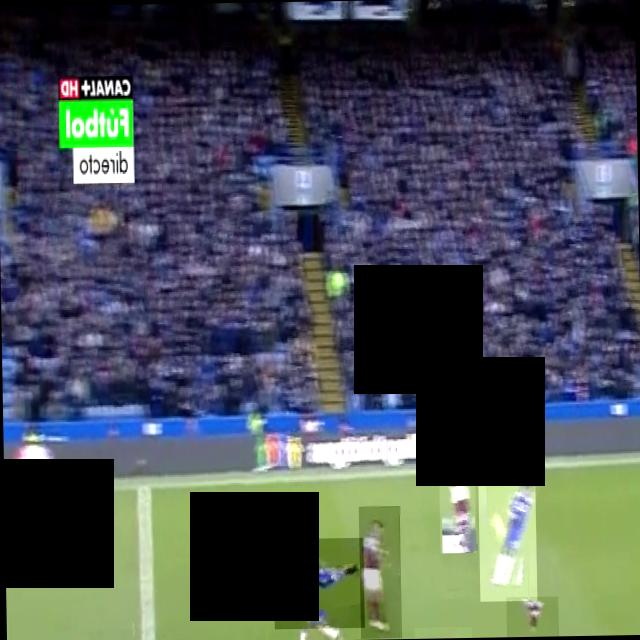referee: (414, 626, 471, 638)
soccer-player: (272, 536, 364, 628), (476, 464, 536, 600), (358, 504, 400, 638), (437, 435, 475, 552), (504, 595, 558, 637), (119, 627, 147, 640)
